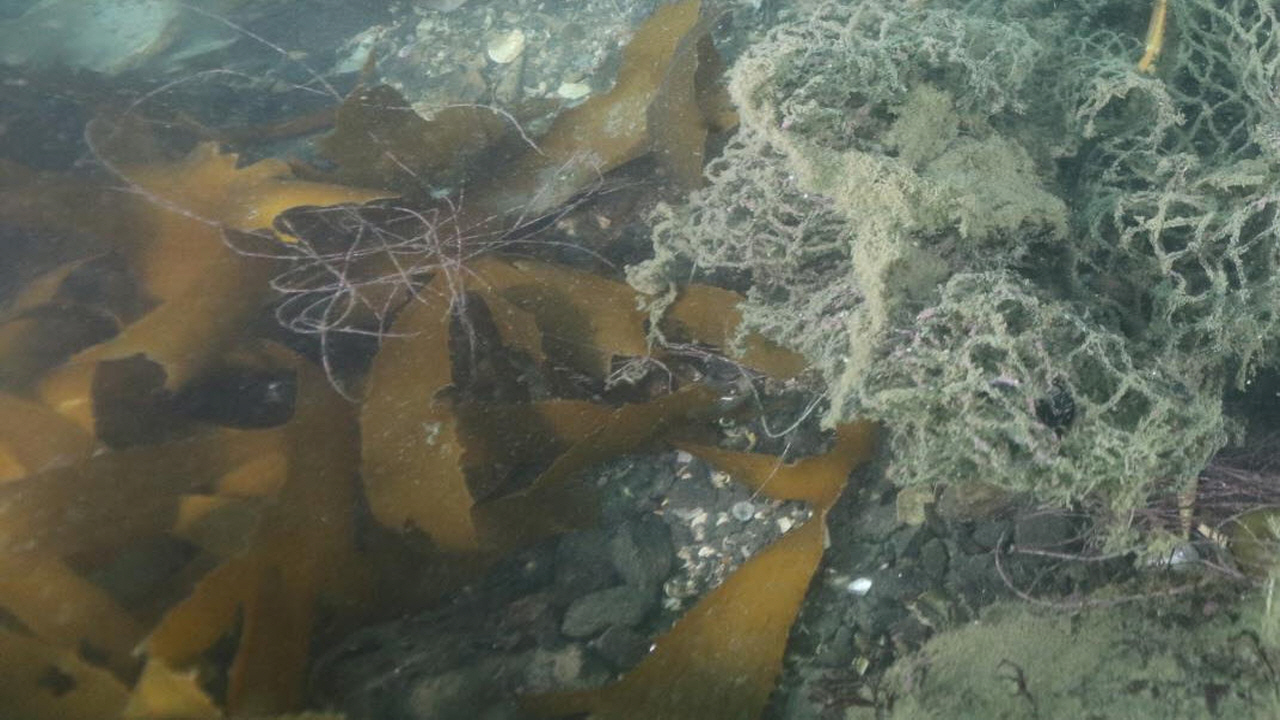fish net: (649, 0, 1280, 565)
